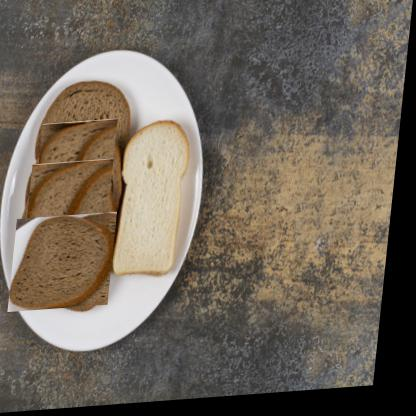bread: (117, 121, 197, 281), (15, 212, 121, 316), (25, 164, 122, 259), (34, 125, 127, 216), (37, 79, 139, 159)
